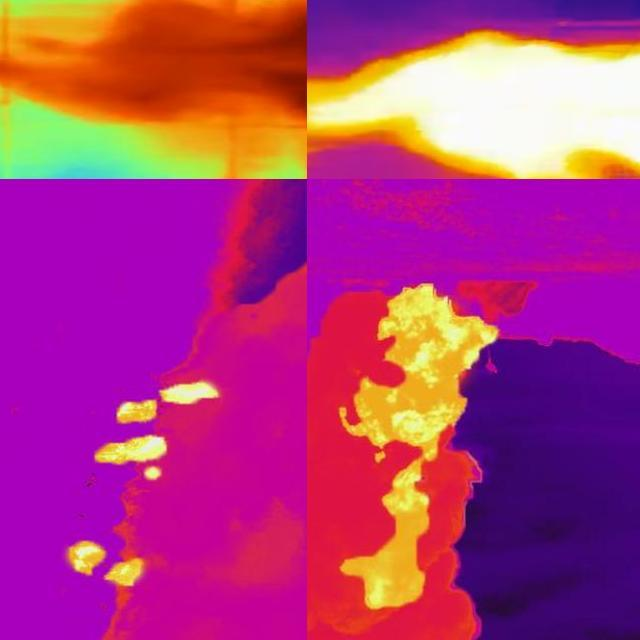fire: (342, 280, 499, 617), (403, 29, 640, 186), (85, 362, 228, 479), (244, 1, 308, 132), (55, 514, 148, 600)
